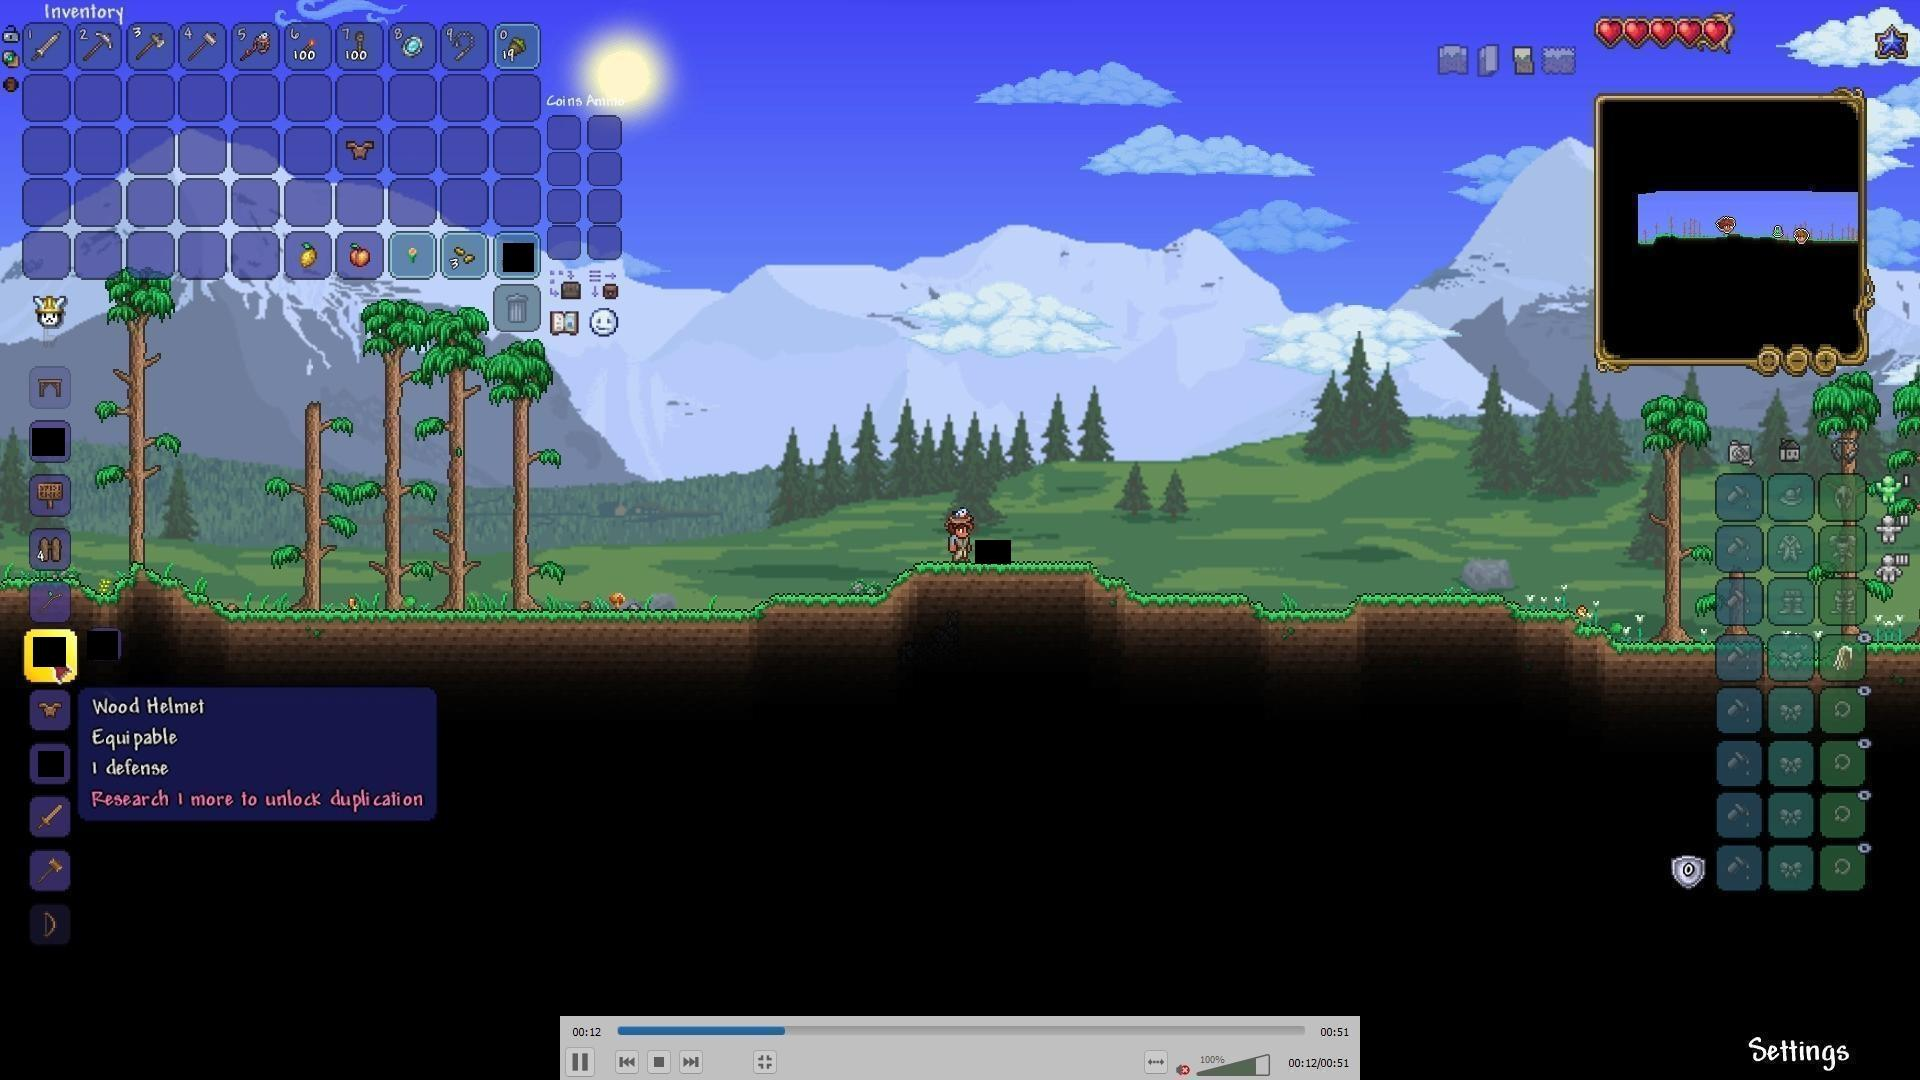breastplate: (342, 135, 378, 167), (36, 698, 66, 719)
